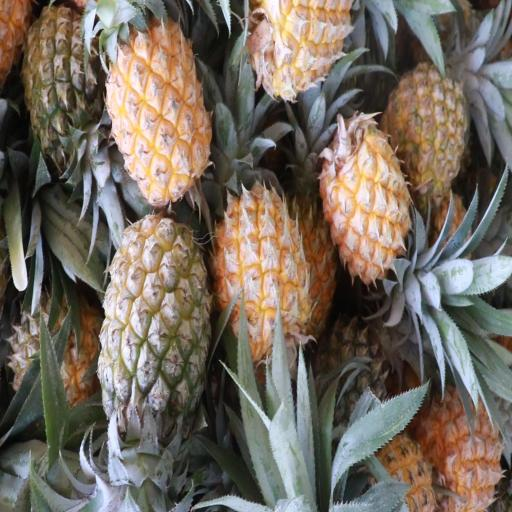------------------------------: (101, 216, 207, 436), (12, 292, 103, 428), (392, 63, 470, 198)
Pineapple - v8 v1: (107, 12, 211, 196), (217, 188, 308, 356), (326, 113, 411, 283), (422, 379, 500, 512), (256, 3, 354, 95)
